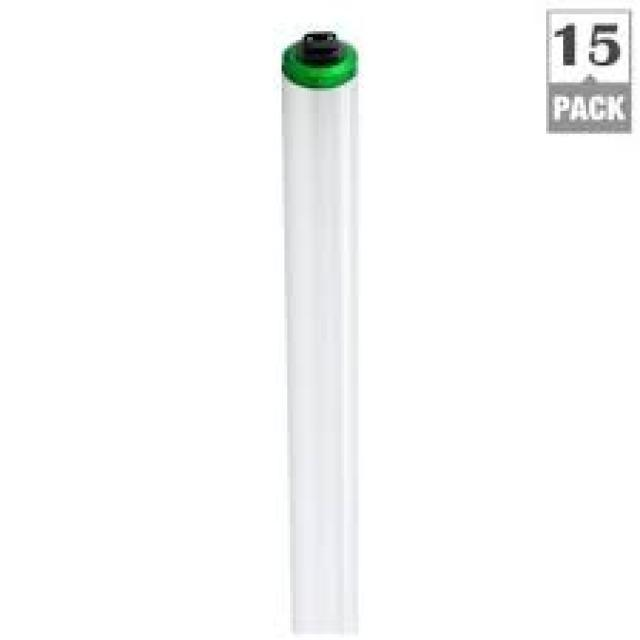tubelight_on: (278, 30, 374, 640)
